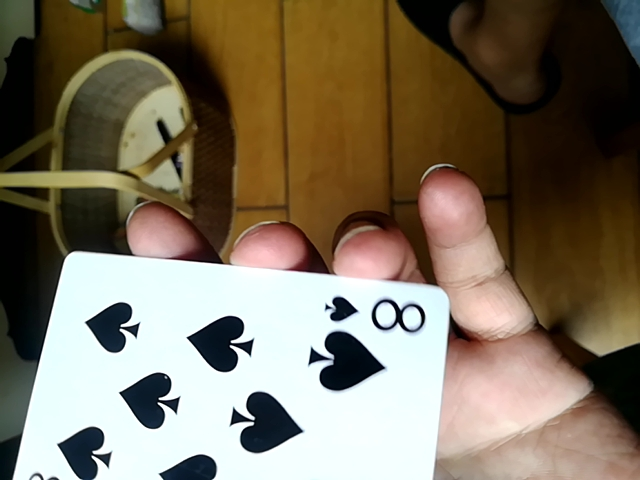ht 8: (13, 247, 455, 476)
